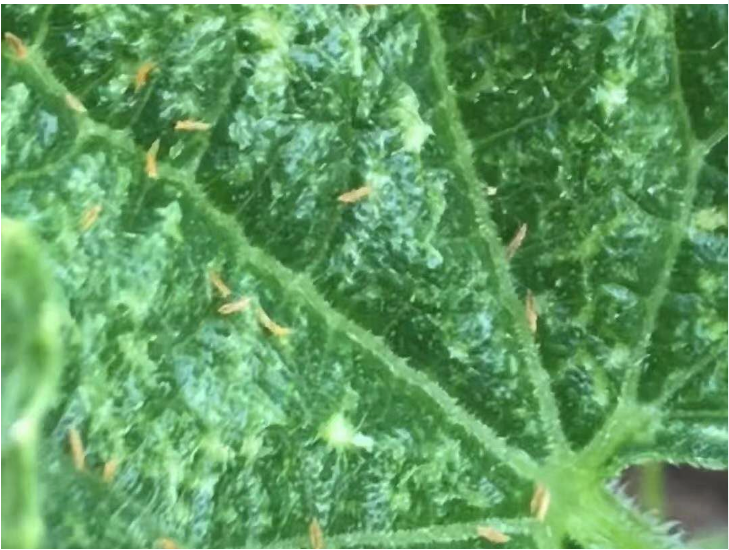thrips: (255, 302, 295, 336), (67, 427, 89, 471), (503, 221, 528, 259), (530, 484, 551, 524), (141, 138, 162, 176), (78, 200, 102, 232), (337, 184, 374, 203), (478, 524, 514, 543), (523, 290, 538, 334), (217, 295, 252, 313), (62, 90, 89, 113), (308, 518, 325, 550), (172, 118, 213, 130)
